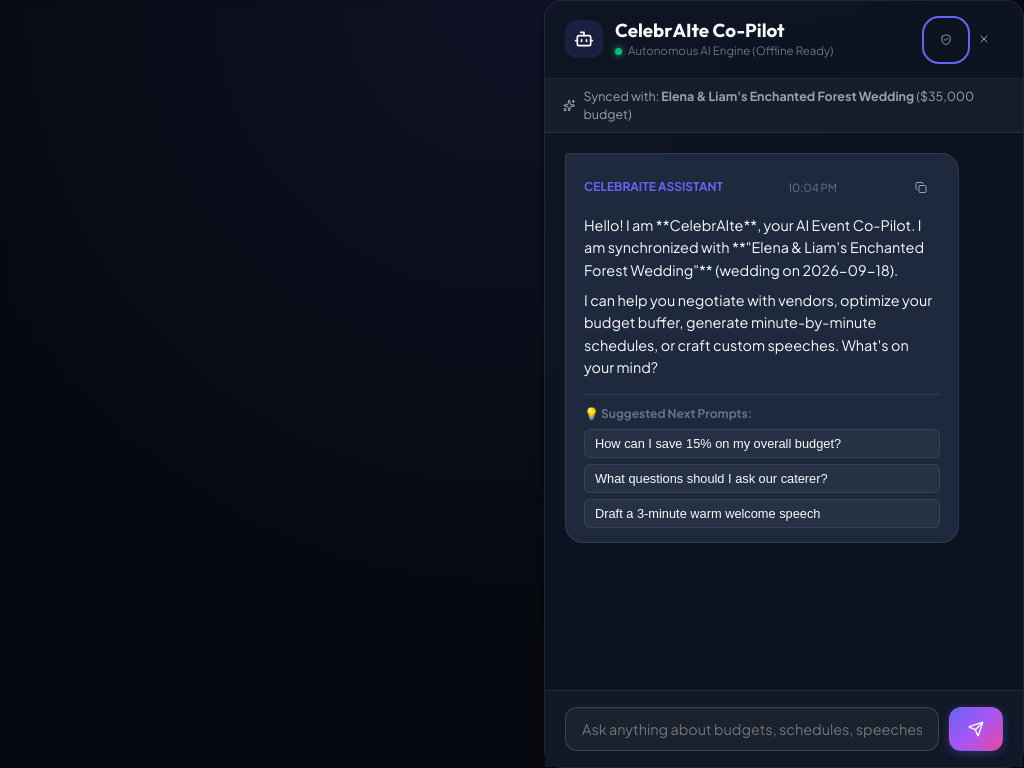
Test case: Additional UI Component Tests & Regression Suite › AssistantDrawer renders message history, preset prompt chips, and closes on Escape
Expected: the text "CelebrAIte Assistant" is shown, [584,178,723,196]
Expected: the field with placeholder "Ask anything about budgets" is shown, [565,707,939,751]
Trigger Escape
Press Escape
Type a message and send
Replace the text in the field with placeholder "Ask anything about budgets" with "How can I save money on flowers?". click: [752, 729]
box: [565,707,939,751]
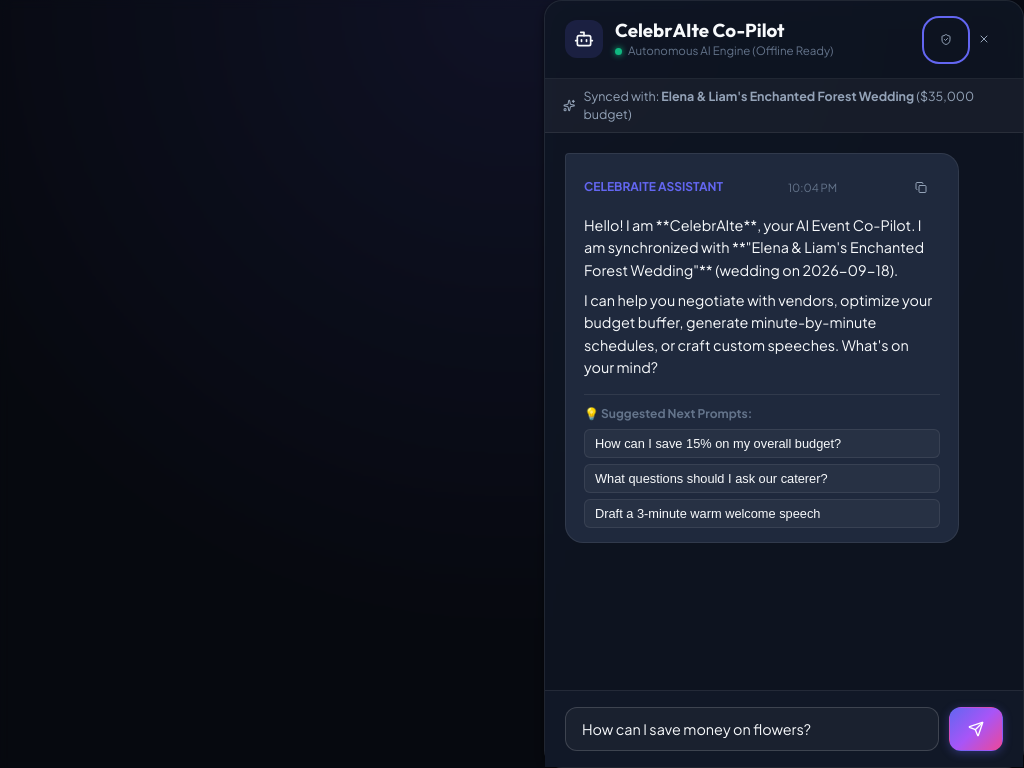
Click the button named "Send query". click: [976, 729]
box: [949,707,1003,751]
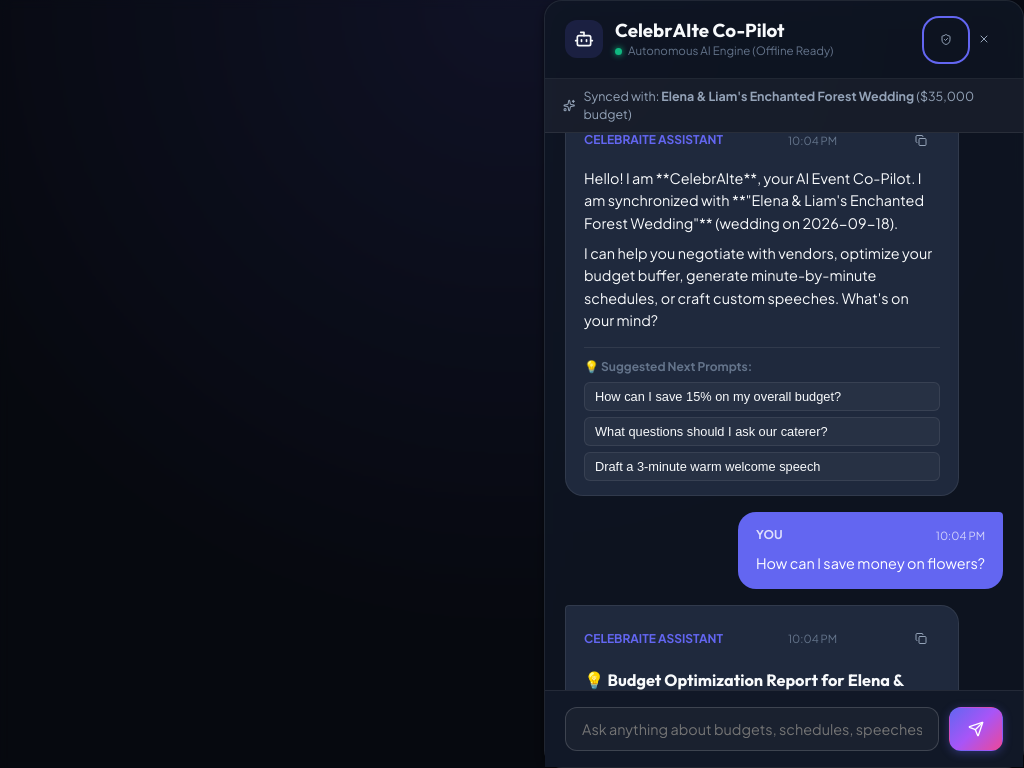
Expected: the text "How can I save money on flowers?" is shown, [756,552,985,575]
